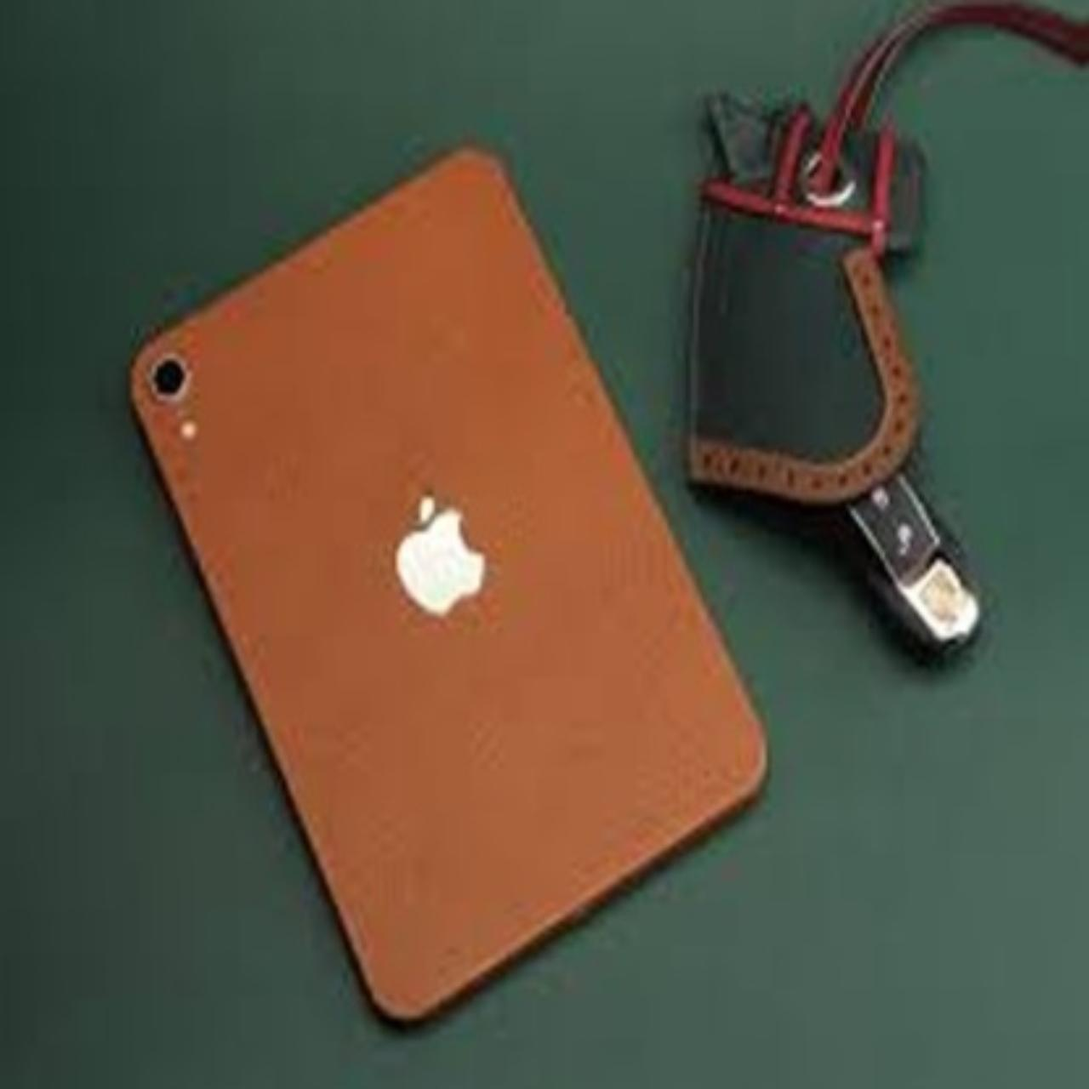Tablet_PC: (108, 137, 796, 1044)
